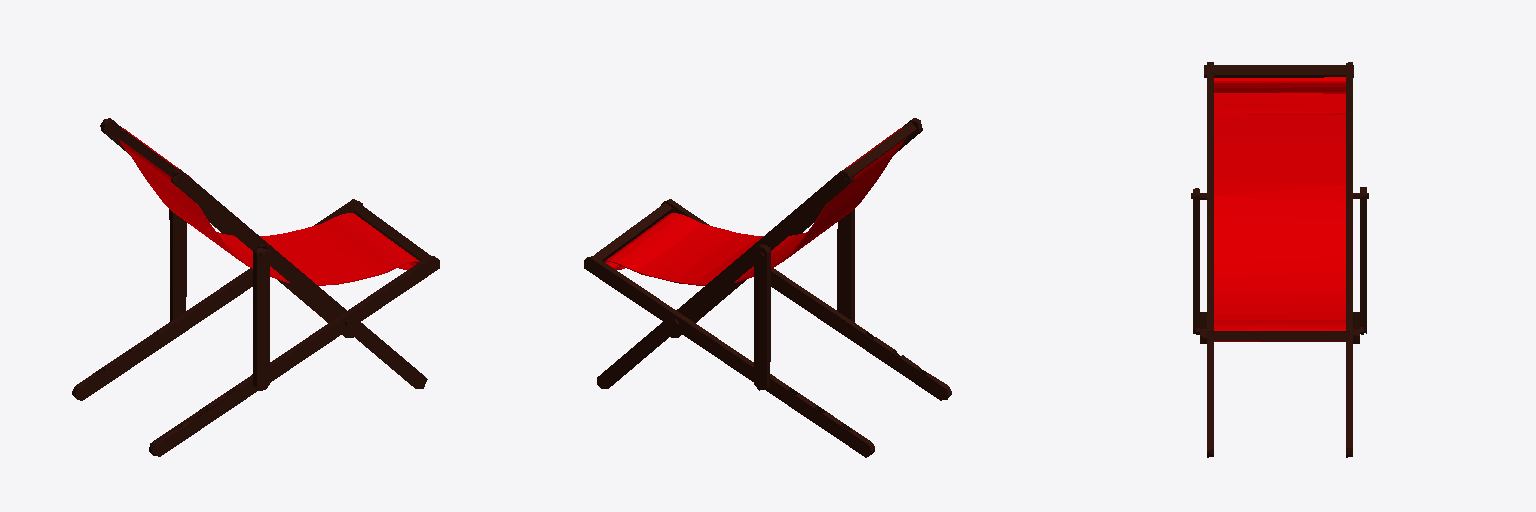
Rendered from Silla_tex.obj.
3 renders of one model, left to right at view 1: azimuth 30°, elevation 25°; view 2: azimuth 150°, elevation 25°; view 3: azimuth 270°, elevation 25°, orthographic.
Parts seen in each view (by area): view 1: silla_01; view 2: silla_01; view 3: silla_01.
Boxes of the visible parts, box(x1,y1,x2,y2) form: silla_01: box(72, 118, 439, 456); silla_01: box(584, 118, 951, 457); silla_01: box(1191, 62, 1368, 457).
Size of the model in its own units: 0.1395 by 0.1283 by 0.0746.